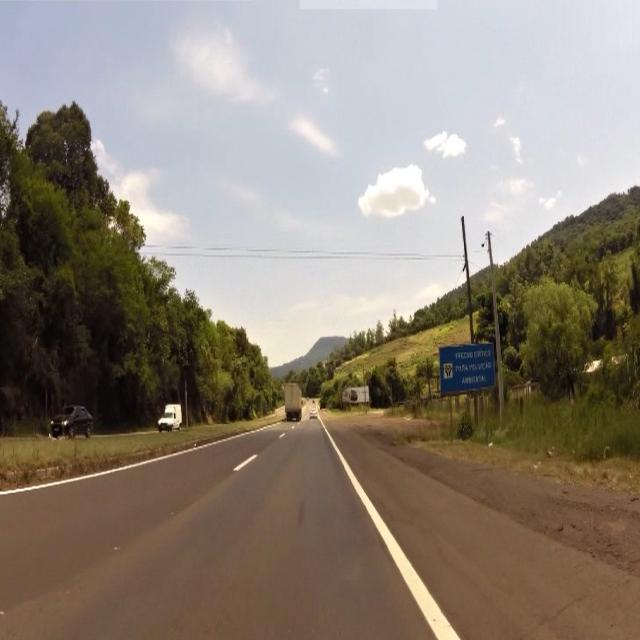LOC-6: (440, 350, 498, 388)
